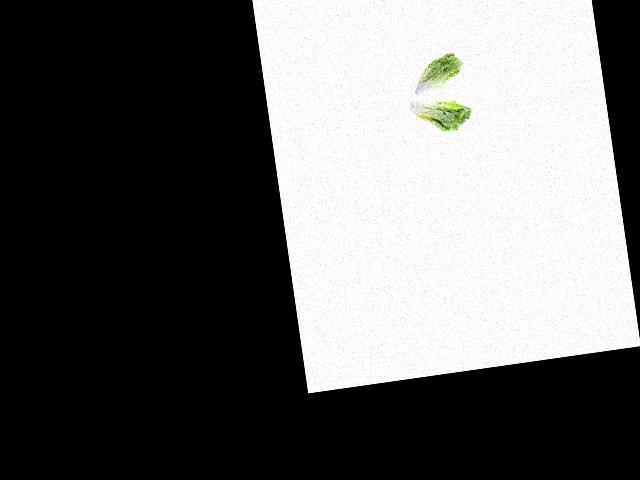lettuce: (403, 50, 465, 97)
